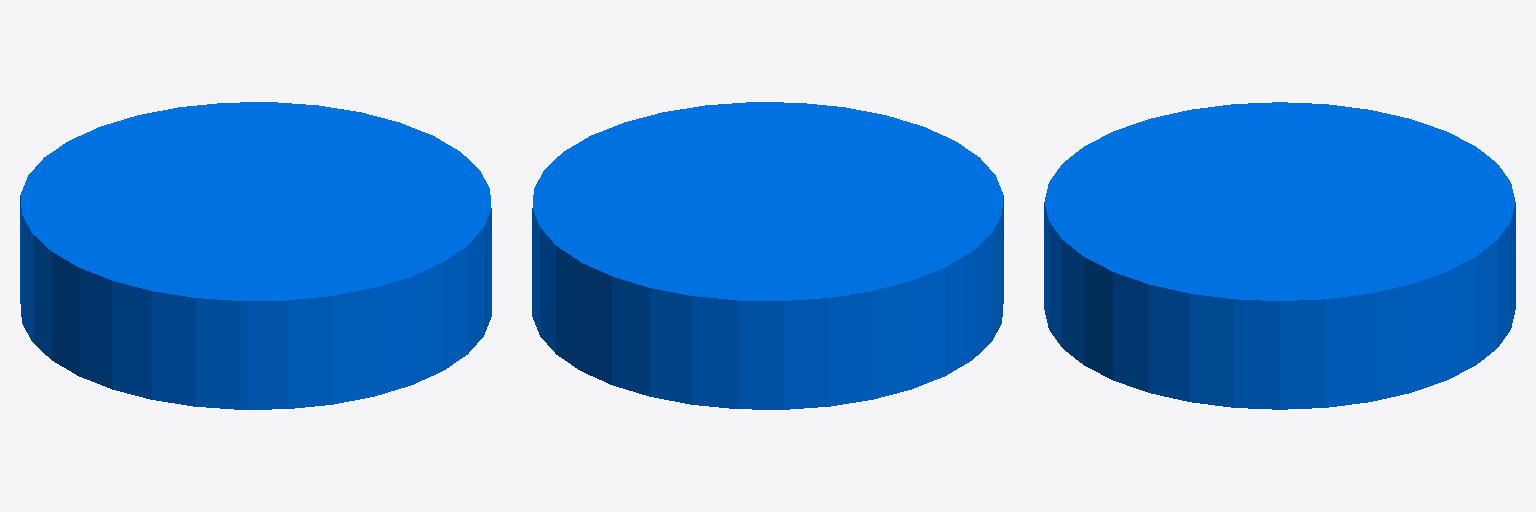
robot.urdf — robot_rycsv:
<?xml version="1.0"?>
<robot name="robot_rycsv">

    <!-- Marco de referencia (Eslabon) inercial-->
    <link name="base_footprint"/>

    <!-- Definicion de la junta entre base_footprint y base_link-->
    <joint name="fixed_joint" type="fixed">
        <origin xyz="0.0 0.0 0.0575" rpy="0.0 0.0 0.0"/>
        <parent link="base_footprint"/>
        <child link="base_link"/>
    </joint>

    <!-- Base Link-->
    <link name="base_link">
        <visual>
            <origin xyz="0.0 0.0 0.0" rpy="0.0 0.0 0.0"/>
            <geometry>
                <cylinder radius="0.175" length="0.089"/>
            </geometry>
            <material name="blue">
                <color rgba="0.0 0.5 1.0 1.0"/>
            </material>
        </visual>
        
        <inertial>
            <mass value="2.2"/>
            <inertia ixx="0.0182959" ixy="0.0" ixz="0.0" 
                     iyy="0.0182959" iyz="0.0" izz="0.0336875"/>
        </inertial>
        
        <collision>
            <origin xyz="0.0 0.0 0.0575" rpy="0.0 0.0 0.0"/>
            <geometry>
                <cylinder radius="0.175" length="0.089"/>
            </geometry>
        </collision>
    </link>

    <joint name="joint_front_wheel" type="fixed">
        <origin xyz="0.115 0.0 -0.039" rpy="0.0 0.0 0.0"/>
        <parent link="base_link"/>
        <child link="front_wheel"/>
    </joint>

    <link name="front_wheel">
        <visual>
            <origin xyz="0.0 0.0 0.0" rpy="1.570735 0.0 0.0"/>
            <geometry>
                <sphere radius="0.017"/>
            </geometry>
            <material name="black">
                <color rgba="0.05 0.05 0.05 1.0"/>
            </material>
        </visual>

        <inertial>
            <mass value="0.025"/>
            <inertia ixx="0.000002014" ixy="0.0" ixz="0.0" 
                     iyy="0.0000036125" iyz="0.0" izz="0.000002014"/>
        </inertial>

        <collision>
            <origin xyz="0.0 0.0 0.0" rpy="1.570735 0.0 0.0"/>
            <geometry>
                <sphere radius="0.017"/>
            </geometry>
        </collision>
    </link>

    <joint name="joint_back_wheel" type="fixed">
        <origin xyz="-0.115 0.0 -0.039" rpy="0.0 0.0 0.0"/>
        <parent link="base_link"/>
        <child link="back_wheel"/>
    </joint>

    <link name="back_wheel">
        <visual>
            <origin xyz="0.0 0.0 0.0" rpy="1.570735 0.0 0.0"/>
            <geometry>
                <sphere radius="0.017"/>
            </geometry>
            <material name="black" />
        </visual>

        <inertial>
            <mass value="0.025"/>
            <inertia ixx="0.000002014" ixy="0.0" ixz="0.0" 
                     iyy="0.0000036125" iyz="0.0" izz="0.000002014"/>
        </inertial>

        <collision>
            <origin xyz="0.0 0.0 0.0" rpy="1.570735 0.0 0.0"/>
            <geometry>
                <sphere radius="0.017"/>
            </geometry>
        </collision>
    </link>

    <joint name="joint_right_wheel" type="continuous">
        <parent link="base_link"/>
        <child link="right_wheel"/>
        <origin xyz="0.0 -0.117539 -0.0233" rpy="0.0 0.0 0.0"/>
        <axis xyz="0.0 1.0 0.0"/>  
        <limit effort="100" velocity="29"/>      
    </joint>
    
    <link name="right_wheel">
        <visual>
            <origin xyz="0.0 0.0 0.0" rpy="1.570795 0.0 0.0"/>
            <geometry>
                <cylinder radius="0.0342" length="0.02"/>
            </geometry>
            <material name="black" />
        </visual>

        <inertial>
            <mass value="0.05"/>
            <inertia ixx="0.0000167179" ixy="0.0" ixz="0.0" 
                     iyy="0.000029241" iyz="0.0" izz="0.0000167179"/>
        </inertial>

        <collision>
            <origin xyz="0.0 0.0 0.0" rpy="1.570795 0.0 0.0"/>
            <geometry>
                <cylinder radius="0.0342" length="0.02"/>
            </geometry>
        </collision>
    </link>

    <joint name="joint_left_wheel" type="continuous">
        <parent link="base_link"/>
        <child link="left_wheel"/>
        <origin xyz="0.0 0.117539 -0.0233" rpy="0.0 0.0 0.0"/>
        <axis xyz="0.0 1.0 0.0"/>  
        <limit effort="100" velocity="29"/>      
    </joint>
    
    <link name="left_wheel">
        <visual>
            <origin xyz="0.0 0.0 0.0" rpy="1.570795 0.0 0.0"/>
            <geometry>
                <cylinder radius="0.0342" length="0.02"/>
            </geometry>
            <material name="black" />
        </visual>

        <inertial>
            <mass value="0.05"/>
            <inertia ixx="0.0000167179" ixy="0.0" ixz="0.0" 
                     iyy="0.000029241" iyz="0.0" izz="0.0000167179"/>
        </inertial>

        <collision>
            <origin xyz="0.0 0.0 0.0" rpy="1.570795 0.0 0.0"/>
            <geometry>
                <cylinder radius="0.0342" length="0.02"/>
            </geometry>
        </collision>
    </link>

    <transmission name="tranmission_1">
        <type>transmission_interface/SimpleTransmission</type>
        <joint name="joint_right_wheel">
            <hardwareInterface>hardware_interface/VelocityJointInterface</hardwareInterface>
        </joint>
        <actuator name="right_motor">
            <mechanicalReduction>1</mechanicalReduction>
        </actuator>
    </transmission>

    <transmission name="tranmission_2">
        <type>transmission_interface/SimpleTransmission</type>
        <joint name="joint_left_wheel">
            <hardwareInterface>hardware_interface/VelocityJointInterface</hardwareInterface>
        </joint>
        <actuator name="left_motor">
            <mechanicalReduction>1</mechanicalReduction>
        </actuator>
    </transmission>

    <!-- Gazebo ROS Plugin-->
    <!-- Plugin para que Gazebo pueda entender los controladores-->
    <gazebo>
        <plugin name="gazebo_ros_control" filename="libgazebo_ros_control.so">
            <robotNamespace>/</robotNamespace>
        </plugin>
    </gazebo>

</robot>

--- What the picture shows (computed from the rendered views, not written in the file) ---
3 views of the same robot in one strip: view 1: azimuth 30°, elevation 25°; view 2: azimuth 150°, elevation 25°; view 3: azimuth 270°, elevation 25° (orthographic).
Robot: robot_rycsv — 6 links, 5 joints (2 continuous, 3 fixed); root link base_footprint; default pose: all joints at 0.
Visible links, largest first — view 1: base_link; view 2: base_link; view 3: base_link.
Boxes of the visible links, x1,y1,x2,y2 form: base_link: (20, 102, 491, 409); base_link: (532, 102, 1003, 409); base_link: (1044, 102, 1515, 409).
Bounding box of the posed robot: 0.35 × 0.35 × 0.102 m (x, y, z).
Geometry: primitives only (box / cylinder / sphere), no mesh files.
